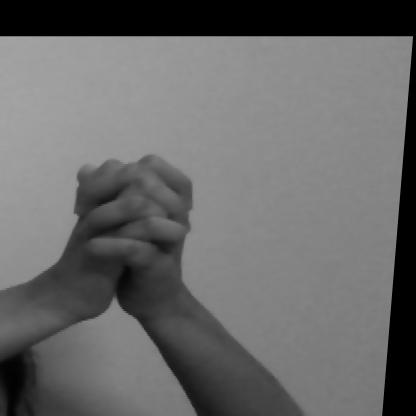prayer: (14, 141, 263, 348)
